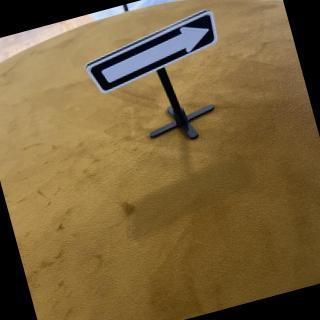sign_oneway_right: (79, 10, 228, 99)
